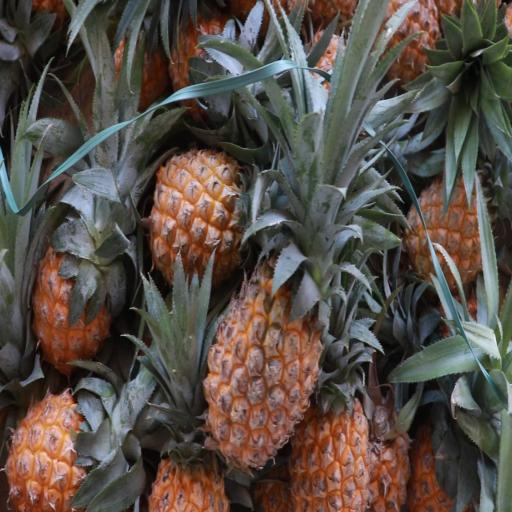Pineapple - v8 v1: (202, 232, 330, 476), (144, 138, 284, 298), (0, 374, 126, 512), (25, 204, 119, 376), (144, 366, 234, 512), (397, 160, 492, 296), (282, 367, 371, 512)
